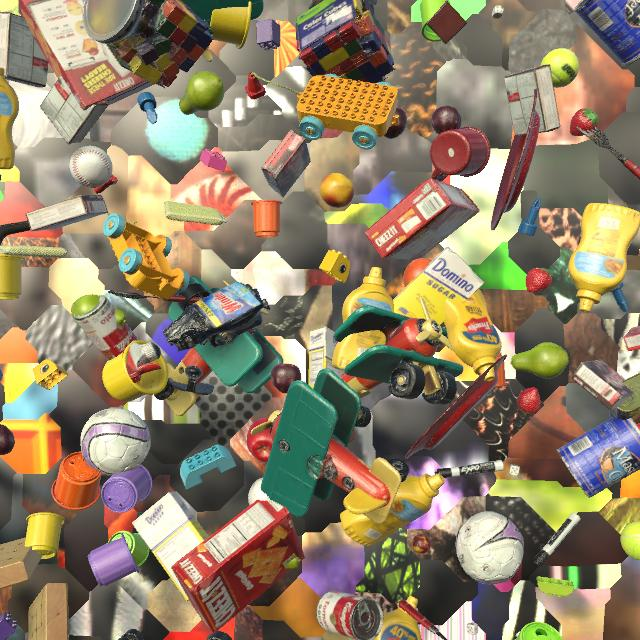ycb_002_master_chef_can: (557, 417, 640, 498), (574, 0, 640, 66)
ycb_003_cracker_box: (171, 500, 305, 633), (18, 0, 154, 111), (365, 178, 480, 260)
ycb_004_sugar_box: (132, 491, 209, 601), (392, 247, 484, 325), (308, 327, 344, 388)
ycb_005_tomato_soup_can: (74, 295, 138, 360), (316, 591, 383, 640)
ycb_006_mustard_bottle: (568, 203, 640, 313), (340, 474, 445, 546), (332, 267, 394, 370), (444, 289, 502, 382), (374, 596, 421, 640), (0, 68, 19, 170)
ycb_008_pudding_box: (40, 76, 109, 144), (505, 64, 561, 136), (0, 12, 48, 88), (261, 129, 311, 198), (571, 360, 633, 410), (25, 194, 108, 231), (361, 0, 378, 5)
ycb_009_gelatin_box: (623, 326, 640, 351)
ycb_010_potted_meat_can: (609, 373, 640, 424)
ycb_012_strawberry: (570, 108, 598, 136), (525, 268, 552, 293), (516, 388, 541, 414)
ycb_013_apple: (247, 417, 273, 462)
ycb_015_peach: (319, 173, 354, 208)
ycb_016_pear: (510, 342, 569, 378), (179, 71, 225, 115), (71, 294, 127, 329), (286, 557, 301, 569)
ycb_017_orange: (403, 258, 432, 287), (115, 58, 116, 59)
ycb_018_plum: (431, 106, 462, 135), (271, 364, 301, 393), (384, 107, 407, 139), (0, 424, 15, 455)
